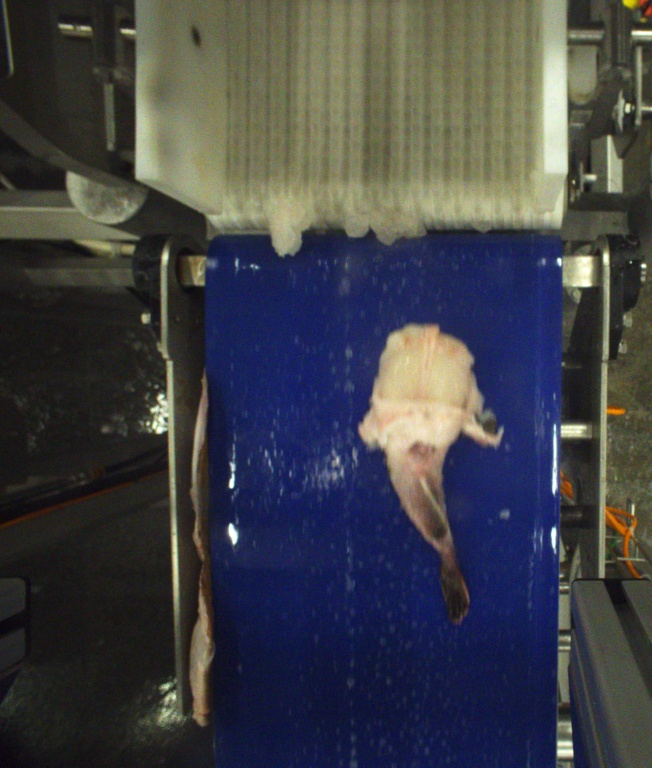ANF: (357, 322, 510, 623)
